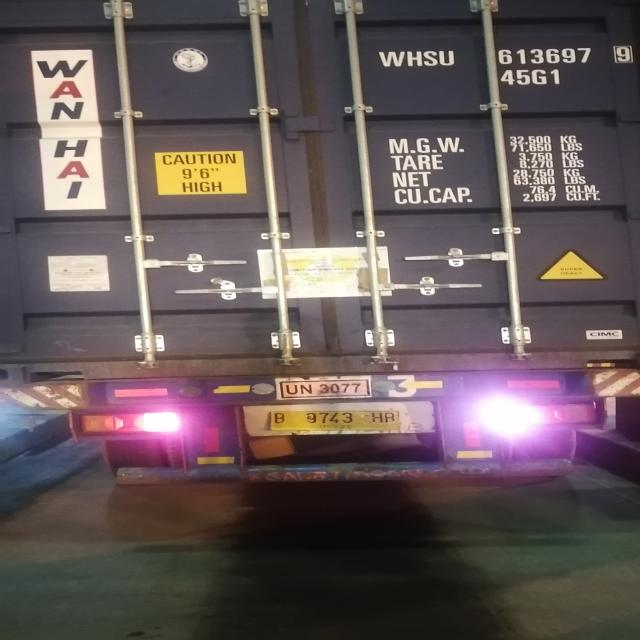seal: (392, 356, 402, 372)
